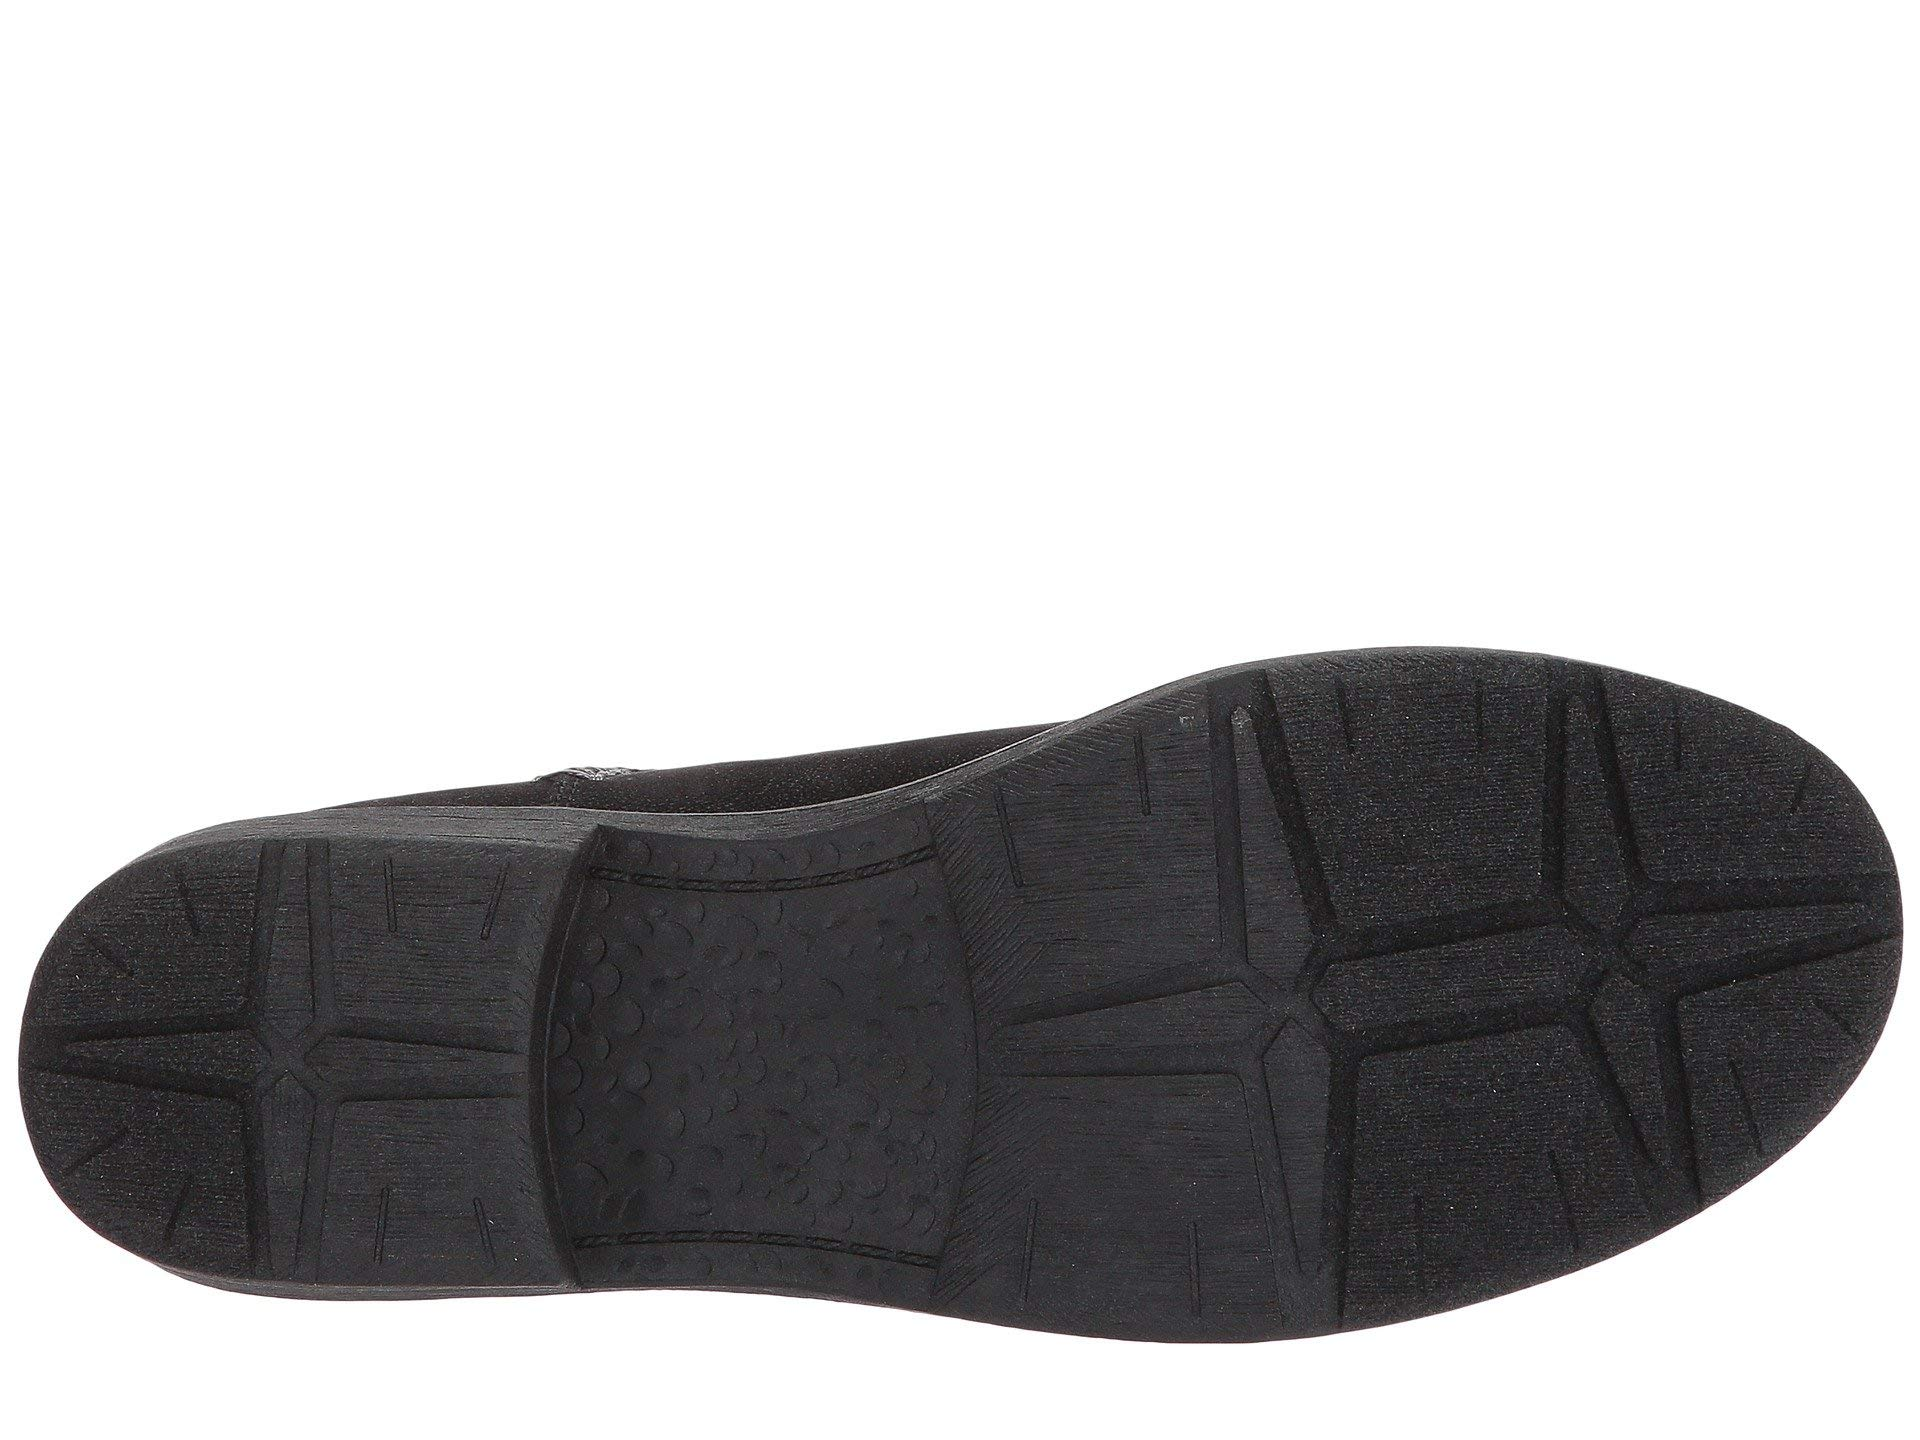polygon: (129, 812, 544, 1302), (1208, 690, 1342, 998), (1246, 1001, 1349, 1304), (1550, 687, 1654, 957), (1589, 967, 1696, 1195), (260, 1063, 314, 1299), (274, 829, 305, 1051)
